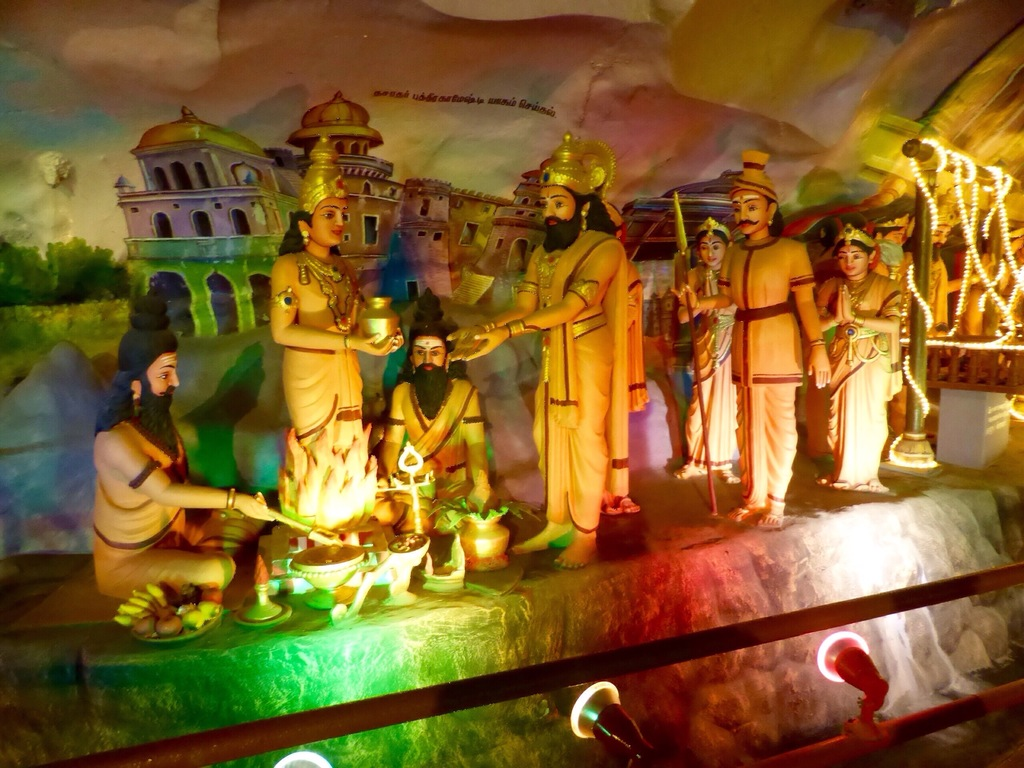Person: (92, 129, 903, 600)
